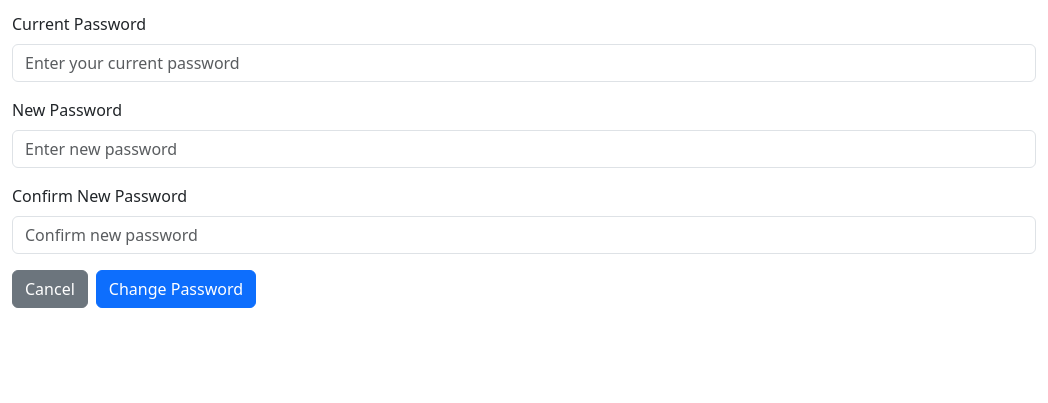
Scenario: ChangePassword › validation errors › displays error when current password is empty
Click the button "Change Password" at (176, 289), box [96, 270, 256, 308]
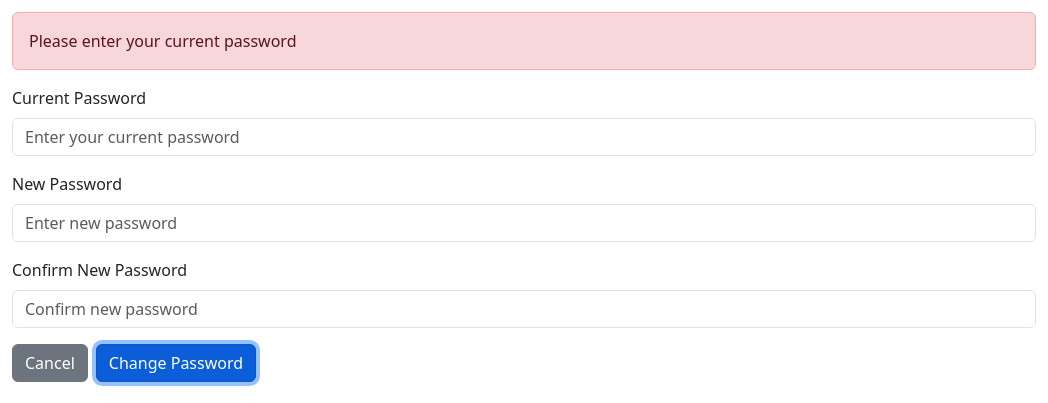
Expected: the text "Please enter your current password" is shown, [12, 12, 1036, 70]
